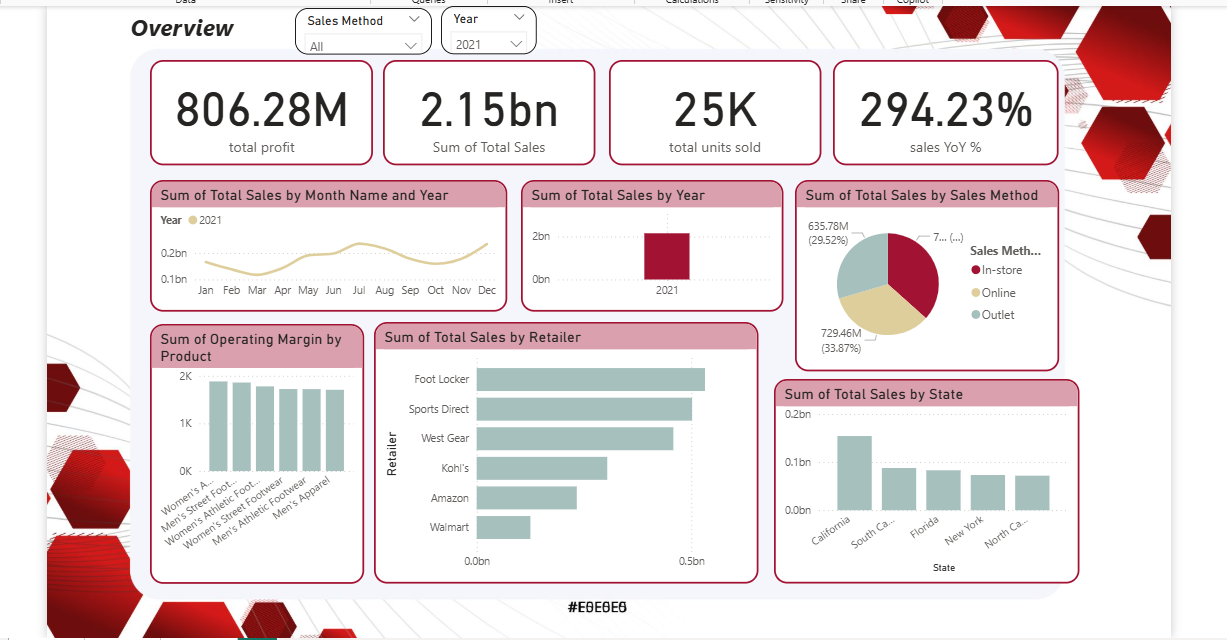

The page's visual inventory and layout, read from the dashboard file:
{"tool":"powerbi","page":{"name":"Page 1","canvas":[1280,720],"ordinal":0},"visuals":[{"type":"card","fields":{"Values":["Data Sales Adidas.total profit"]},"box":[116.9,61.7,254.5,119.5],"z":0},{"type":"card","fields":{"Values":["Sum(Data Sales Adidas.Total Sales)"]},"box":[383,61.7,241.6,119.5],"z":1000},{"type":"card","fields":{"Values":["Data Sales Adidas.total units sold"]},"box":[640,61.7,241.6,119.5],"z":2000},{"type":"lineChart","fields":{"Y":["Sum(Data Sales Adidas.Total Sales)"],"Category":["Date.Month Name"],"Series":["Date.Year"]},"box":[116.9,197.9,407.4,150.4],"z":3000},{"type":"pieChart","fields":{"Y":["Sum(Data Sales Adidas.Total Sales)"],"Category":["Data Sales Adidas.Sales Method"]},"box":[852,197.9,300.7,218.5],"z":4000},{"type":"columnChart","fields":{"Y":["Sum(Data Sales Adidas.Total Sales)"],"Category":["Date.Year"]},"box":[539.8,197.9,299.4,150.4],"z":5000},{"type":"columnChart","fields":{"Category":["Data Sales Adidas.Product"],"Y":["Sum(Data Sales Adidas.Operating Margin)"]},"box":[116.9,362.4,244.2,295.6],"z":6000},{"type":"card","fields":{"Values":["Data Sales Adidas.sales YoY %"]},"box":[895.7,61.7,257,119.5],"z":7000},{"type":"slicer","fields":{"Values":["Date.Year","Data Sales Adidas.Retailer"]},"box":[448.5,0,109.2,55.3],"z":8000},{"type":"slicer","fields":{"Values":["Data Sales Adidas.Sales Method"]},"box":[282.7,2.6,155.5,52.7],"z":9000},{"type":"columnChart","fields":{"Y":["Sum(Data Sales Adidas.Total Sales)"],"Category":["Data Sales Adidas.State"]},"box":[828.8,425,347.5,232.5],"z":10000},{"type":"textbox","box":[90,0,242.5,55],"z":11000},{"type":"barChart","fields":{"Y":["Sum(Data Sales Adidas.Total Sales)"],"Category":["Data Sales Adidas.Retailer"]},"box":[372.5,360,437.5,297.5],"z":12000}]}

Visuals, with their boxes in screenshot pixels (x1, y1, x2, y2):
card - Data Sales Adidas.total profit: <region>147, 57, 370, 162</region>
card - Sum(Data Sales Adidas.Total Sales): <region>380, 57, 591, 162</region>
card - Data Sales Adidas.total units sold: <region>605, 57, 816, 162</region>
lineChart - Sum(Data Sales Adidas.Total Sales) x Date.Month Name: <region>147, 176, 504, 308</region>
pieChart - Sum(Data Sales Adidas.Total Sales) x Data Sales Adidas.Sales Method: <region>791, 176, 1054, 368</region>
columnChart - Sum(Data Sales Adidas.Total Sales) x Date.Year: <region>517, 176, 779, 308</region>
columnChart - Data Sales Adidas.Product x Sum(Data Sales Adidas.Operating Margin): <region>147, 320, 361, 579</region>
card - Data Sales Adidas.sales YoY %: <region>829, 57, 1054, 162</region>
slicer - Date.Year x Data Sales Adidas.Retailer: <region>437, 3, 533, 52</region>
slicer - Data Sales Adidas.Sales Method: <region>292, 5, 428, 52</region>
columnChart - Sum(Data Sales Adidas.Total Sales) x Data Sales Adidas.State: <region>770, 375, 1074, 579</region>
textbox: <region>124, 3, 336, 51</region>
barChart - Sum(Data Sales Adidas.Total Sales) x Data Sales Adidas.Retailer: <region>371, 318, 754, 579</region>
